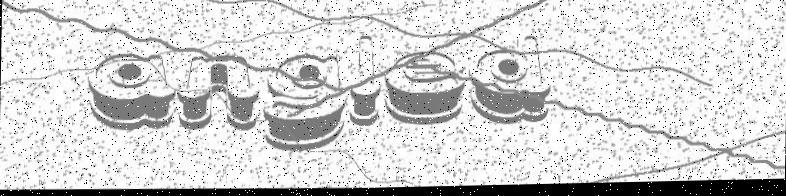a: (85, 50, 177, 133)
d: (466, 36, 550, 127)
e: (383, 51, 464, 128)
g: (262, 53, 348, 155)
l: (348, 34, 382, 129)
n: (177, 55, 263, 134)
